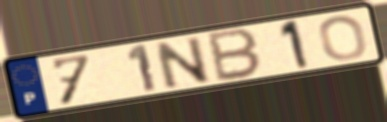1: (125, 41, 160, 95), (278, 17, 312, 72)
7: (49, 52, 93, 107)
B: (206, 26, 264, 84)
N: (151, 34, 214, 91)
O: (317, 14, 370, 62)
